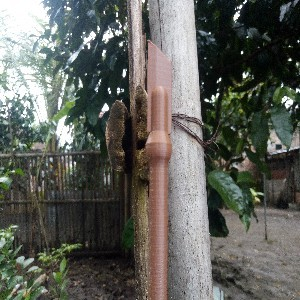cutter: (144, 36, 174, 300)
